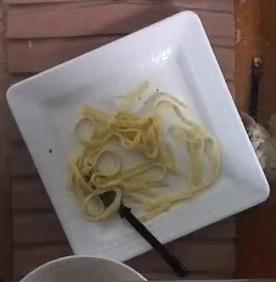pasta: (68, 81, 218, 218)
